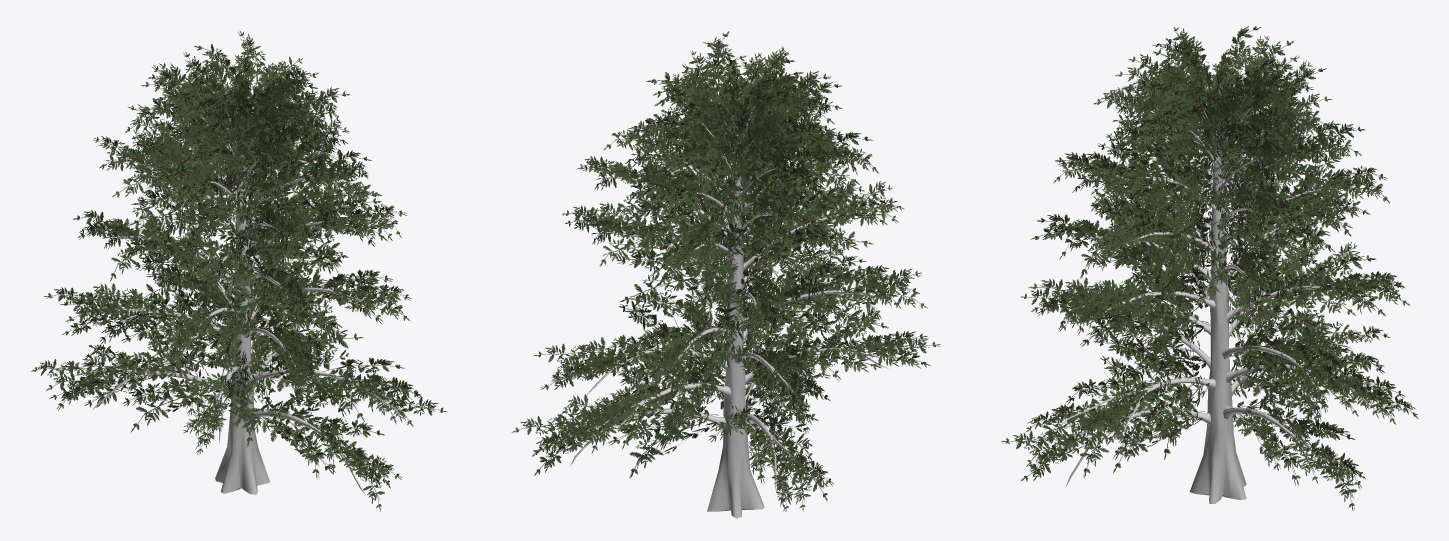
Rendered from SM_RegularPine.fbx.
3 views of the same model, side by side, from view 1: azimuth 30°, elevation 25°; view 2: azimuth 150°, elevation 25°; view 3: azimuth 270°, elevation 25° (orthographic). The views are drawn at different scales.
Visible parts, largest first — view 1: SM_RegularPine_LOD0; view 2: SM_RegularPine_LOD0; view 3: SM_RegularPine_LOD0.
Boxes of the visible parts, x1=… form: SM_RegularPine_LOD0: x1=31, y1=31, x2=447, y2=511; SM_RegularPine_LOD0: x1=511, y1=31, x2=940, y2=518; SM_RegularPine_LOD0: x1=1001, y1=26, x2=1418, y2=511.
Bounding box in the file's own units: 1507 × 1721 × 1955.
